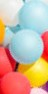Balloon: (8, 30, 44, 65), (16, 1, 48, 30), (1, 72, 30, 94)
